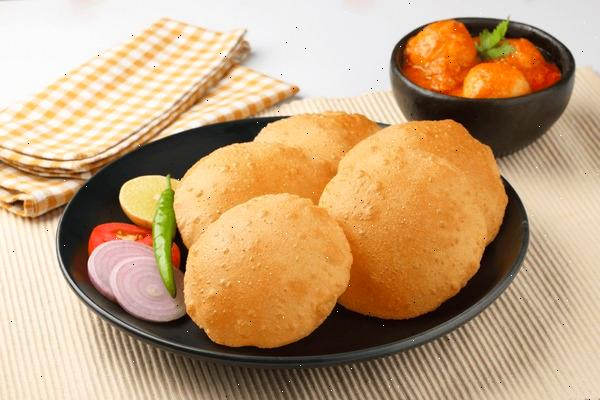puri: (190, 116, 483, 343)
